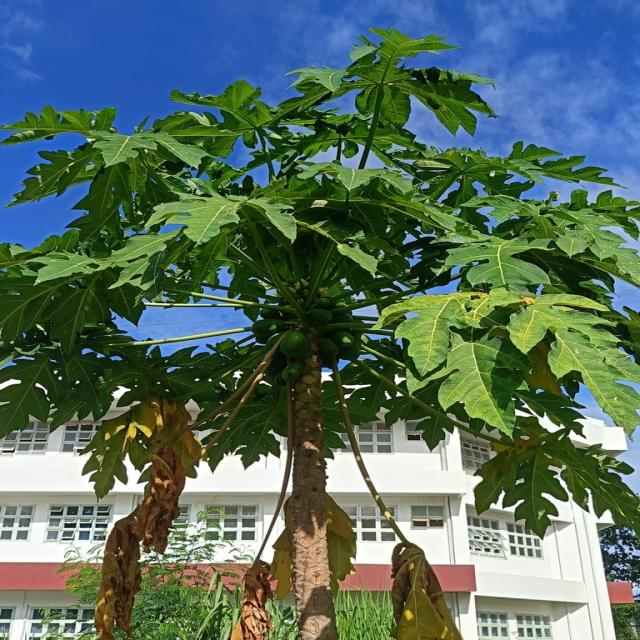Papaya-Tree: (20, 27, 640, 626)
